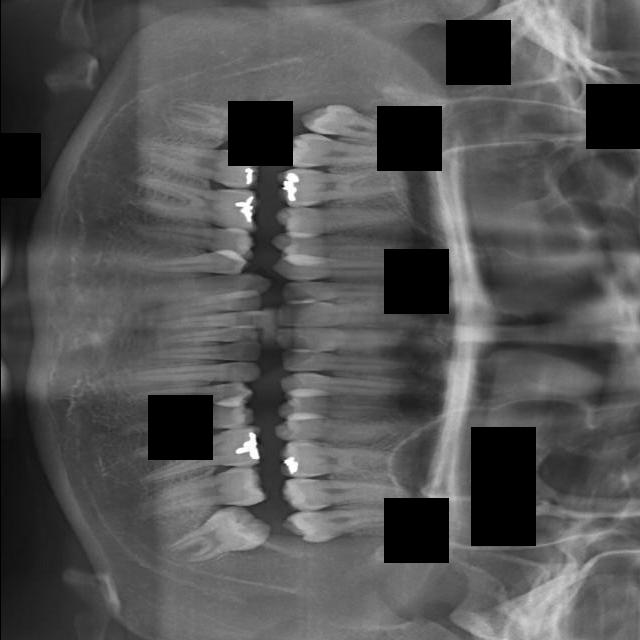3M ESPE Implant: (298, 98, 429, 149)
AGS Medikal Implant: (161, 504, 162, 505)
AMerOss Implant: (128, 423, 268, 489)
Amalgam filling: (279, 132, 410, 172)
Anthogyr Implant: (112, 402, 255, 437)
Bicon Implant: (126, 381, 254, 406)
BioHorizons Implant: (123, 362, 261, 383)
BioLife Implant: (142, 343, 263, 360)
Biomet 3i Implant: (150, 327, 258, 346)
Blue Sky Bio Implant: (155, 310, 270, 330)
Camlog Implant: (146, 291, 265, 320)
Caries: (280, 351, 427, 376)
Composite filling: (116, 268, 273, 310)
Cowellmedi Implant: (135, 252, 250, 275)
Crown: (124, 209, 257, 259)
DENTSPLY Implant: (276, 163, 409, 206)
Dentatus Implant: (123, 174, 261, 233)
Dentis Implant: (135, 138, 263, 190)
Dentium Implant: (163, 81, 289, 157)
Euroteknika Implant: (274, 205, 416, 238)
Filling: (268, 233, 423, 261)
Frontier Implant: (273, 259, 435, 280)
Hiossen Implant: (279, 372, 435, 398)
Implant: (275, 302, 429, 326)
Implant Direct: (281, 275, 422, 304)
Keystone Dental Implant: (274, 326, 424, 356)
MIS Implant: (275, 396, 414, 419)
Mandible: (274, 417, 407, 444)
Maxilla: (276, 440, 401, 481)
Megagen Implant: (281, 479, 412, 510)
Neodent Implant: (282, 506, 404, 545)
Neoss Implant: (157, 497, 275, 570)
